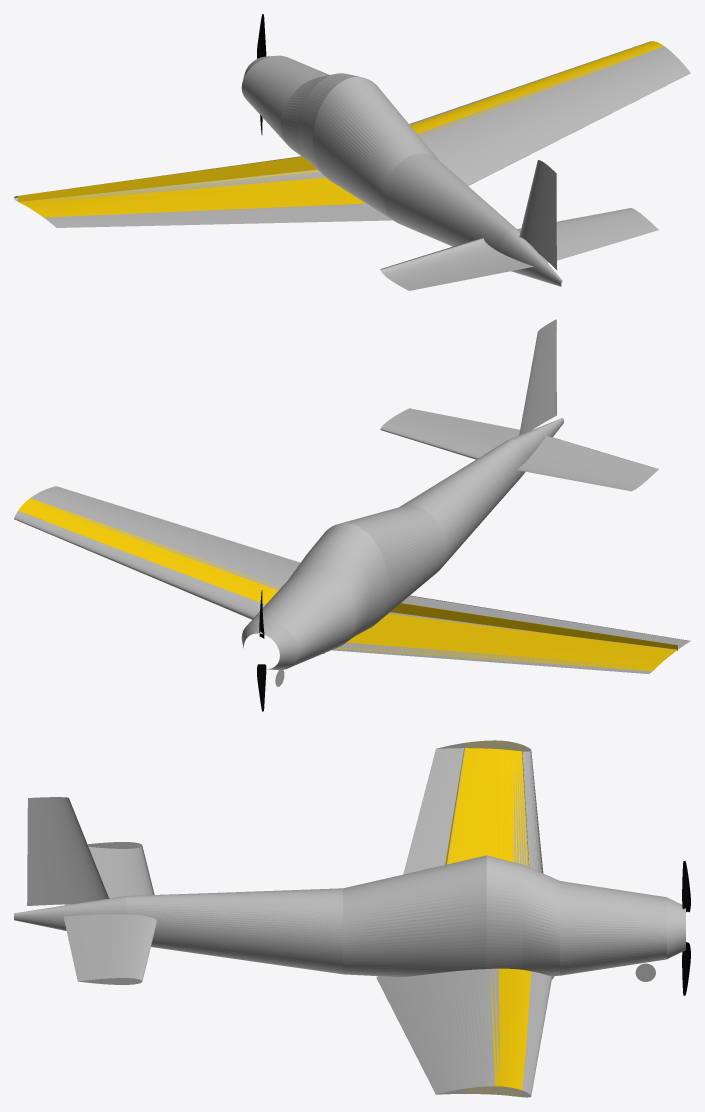
Rendered from Navion.gltf.
The picture shows the model from 3 angles, top to bottom: view 1: azimuth 30°, elevation 25°; view 2: azimuth 150°, elevation 25°; view 3: azimuth 270°, elevation 25°; orthographic projection. The views are drawn at different scales.
Parts seen in each view (by area): view 1: Renderer Node; view 2: Renderer Node; view 3: Renderer Node.
Boxes of the visible parts, x1=… form: Renderer Node: x1=14, y1=14, x2=690, y2=290; Renderer Node: x1=14, y1=319, x2=690, y2=711; Renderer Node: x1=14, y1=740, x2=690, y2=1097.
Size of the model in its own units: 10.17 by 2.71 by 8.41.
